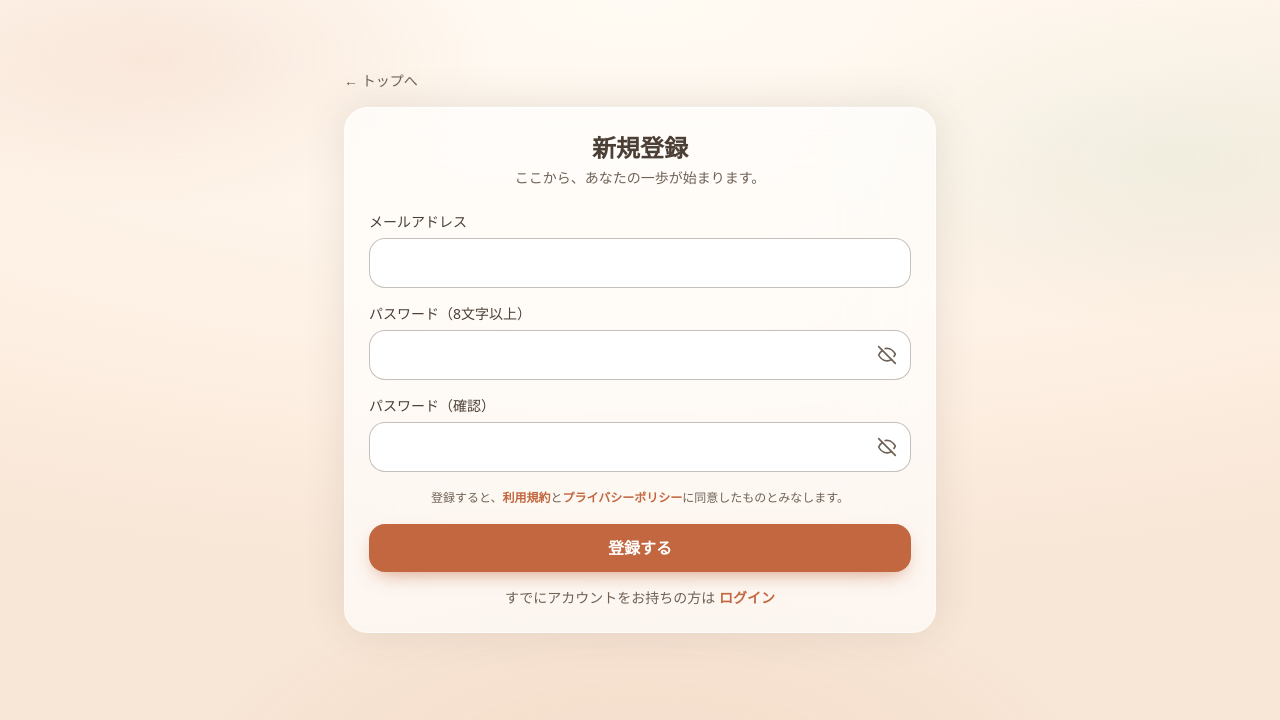
Scenario: RegisterForm › 確認用パスワードが一致しなければエラーを表示する
The width and height of the screenshot is (1280, 720).
Type "taro@example.com" into the field labelled "メールアドレス" at (640, 263), box [369,238,911,288]
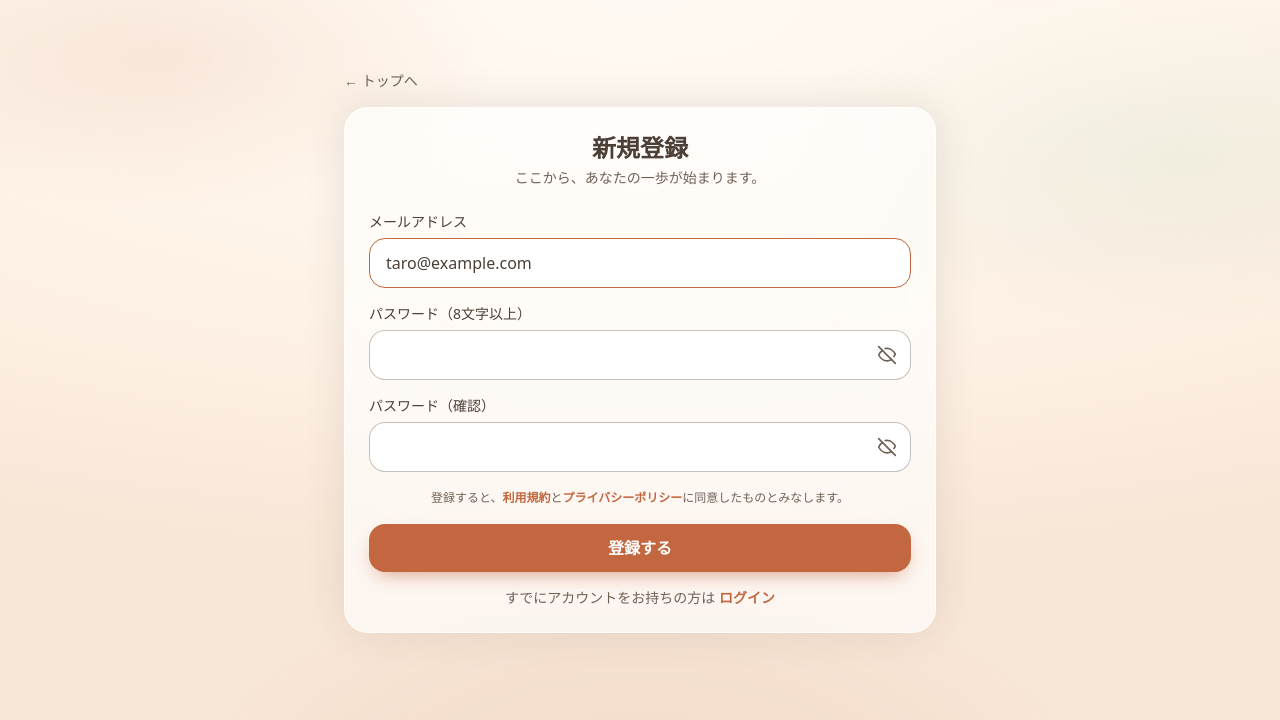
Type "password123" into the password field labelled "パスワード（8文字以上）" at (640, 355), box [369,330,911,380]
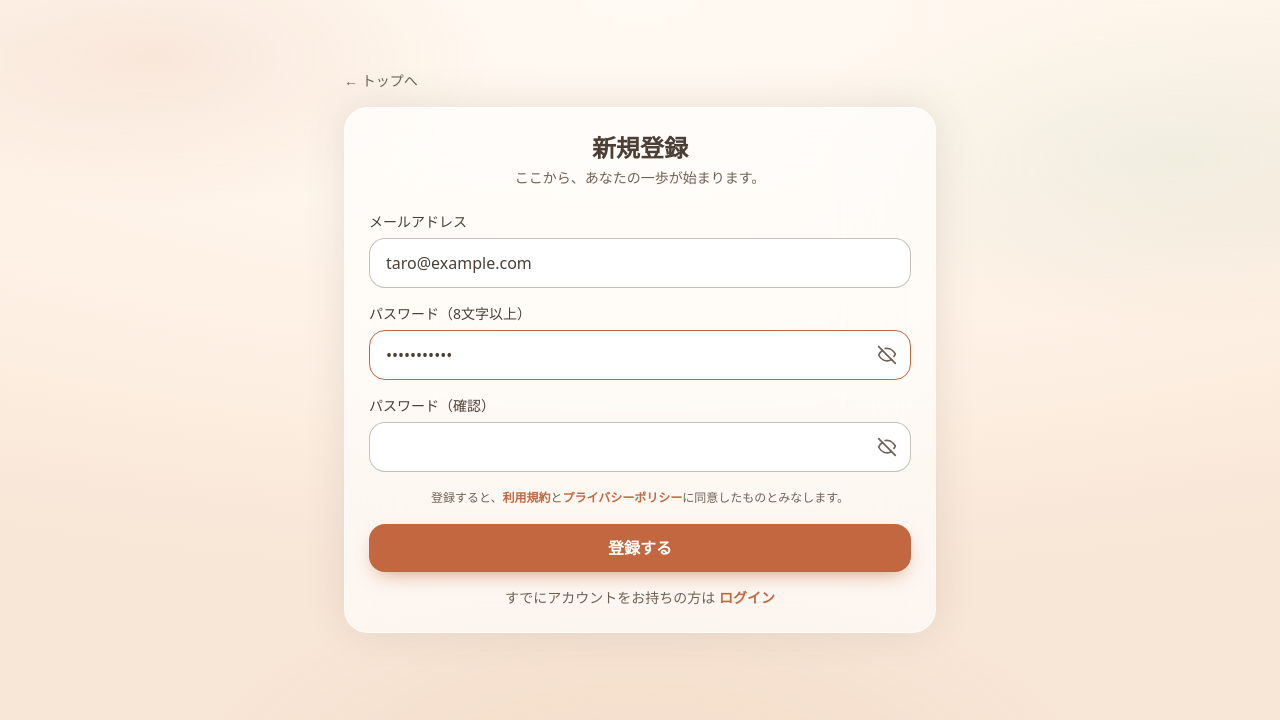
Type "password999" into the password field labelled "パスワード（確認）" at (640, 447), box [369,422,911,472]
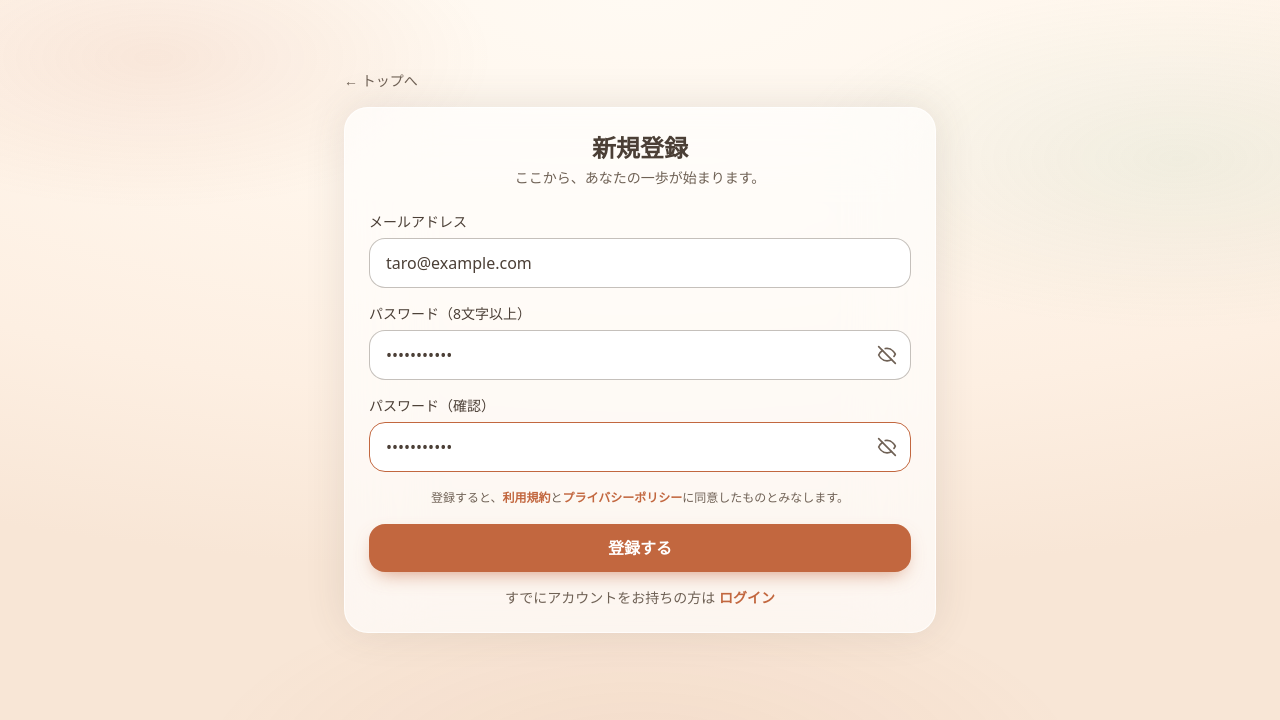
Click the button "登録する" at (640, 548), box [369,524,911,572]
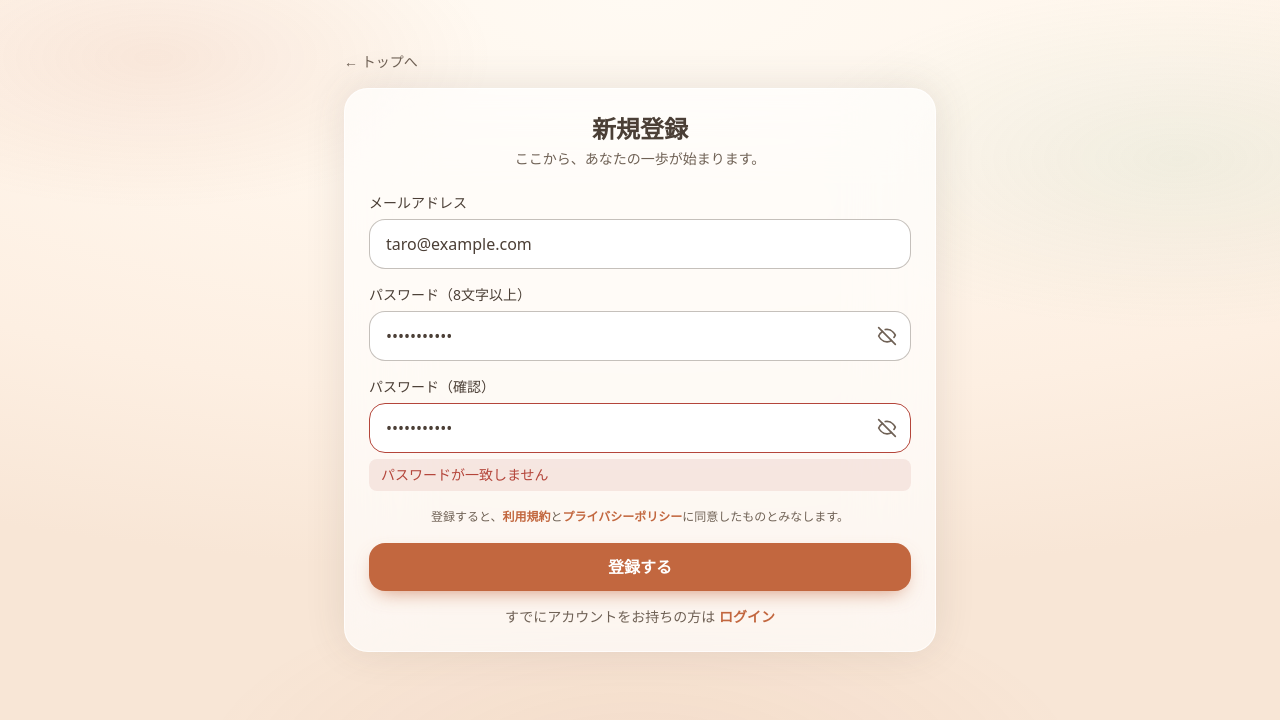
Now the text "パスワードが一致しません" is shown, box [369,459,911,491]
